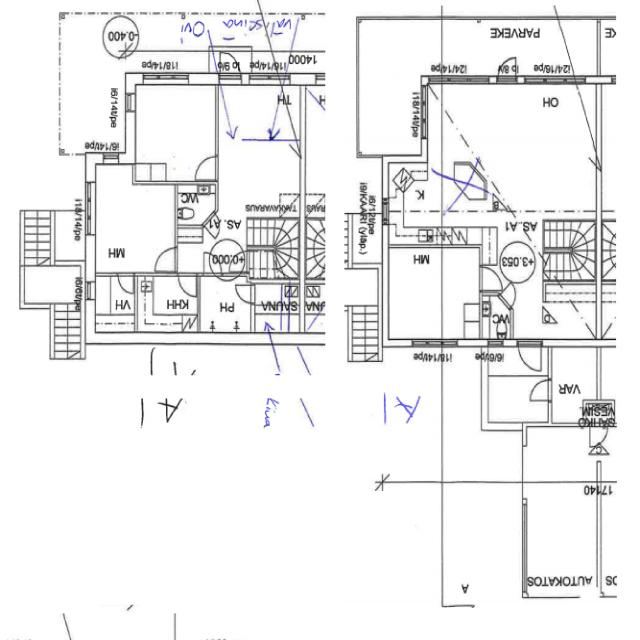door: (515, 336, 544, 374), (494, 52, 522, 85), (525, 376, 555, 406), (477, 264, 505, 296), (217, 50, 242, 84), (192, 152, 220, 182), (152, 245, 179, 274), (174, 270, 200, 300), (115, 270, 138, 295), (233, 282, 256, 305), (123, 90, 138, 116)
window: (591, 77, 606, 167), (591, 162, 608, 224), (518, 72, 576, 90), (444, 71, 498, 89), (142, 70, 195, 88), (409, 335, 452, 354), (419, 90, 433, 144), (246, 69, 283, 88), (122, 89, 138, 116)
zone: (433, 78, 599, 212), (213, 130, 303, 258), (384, 244, 483, 345), (357, 22, 427, 158), (90, 169, 175, 275), (130, 80, 218, 182), (380, 346, 443, 484), (217, 80, 299, 156), (548, 346, 611, 428), (387, 167, 445, 239), (135, 274, 199, 332), (540, 282, 600, 341), (198, 278, 253, 335), (19, 264, 86, 306), (90, 274, 135, 336), (175, 180, 217, 231), (252, 281, 292, 330), (55, 210, 87, 262), (481, 298, 512, 349)
